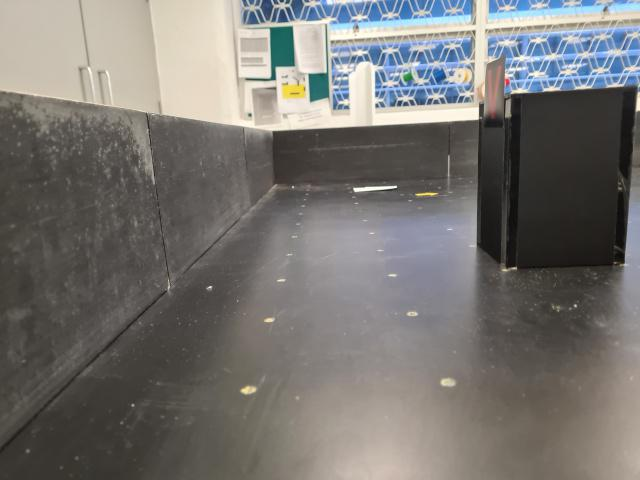v: (484, 56, 506, 123)
